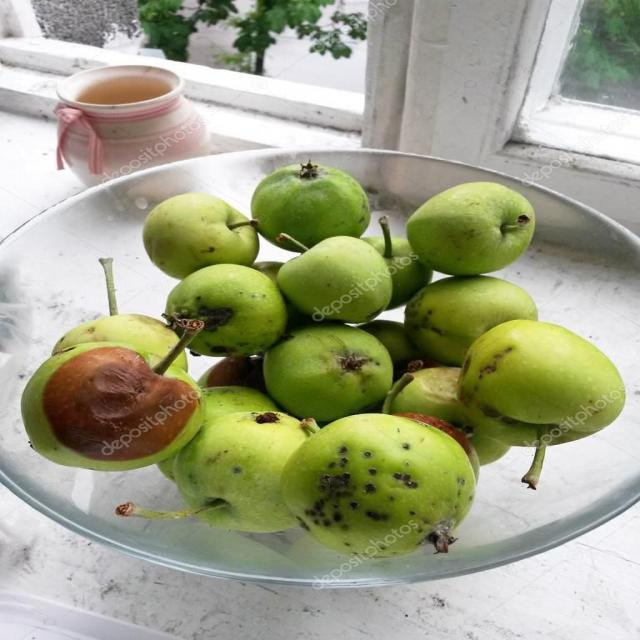Rotten: (297, 424, 468, 568), (180, 405, 320, 543), (42, 350, 186, 473)
